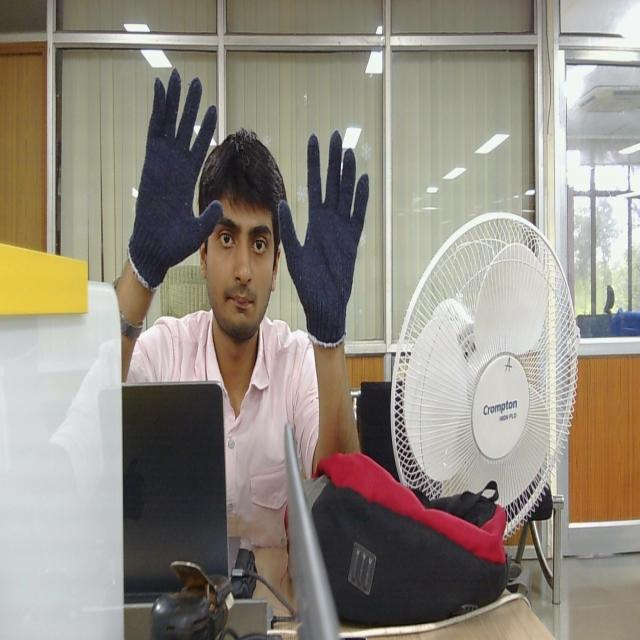Gloves-Detection: (274, 130, 370, 352), (126, 68, 219, 293)
